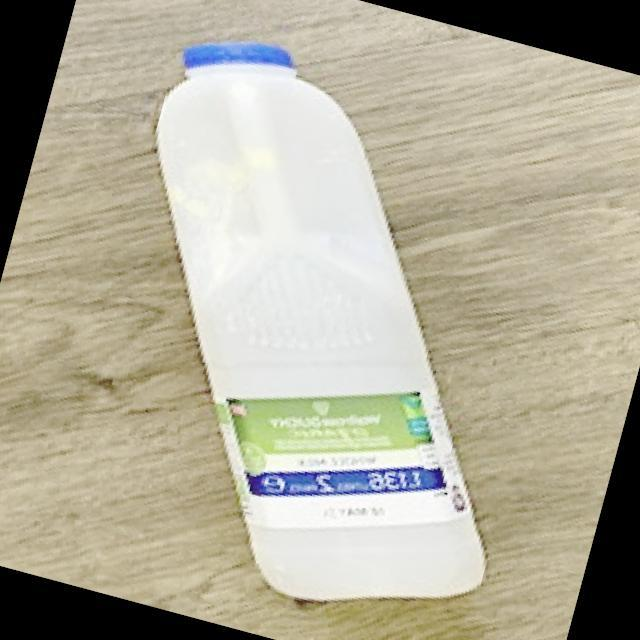HDPE Plastic: (148, 37, 496, 607)
